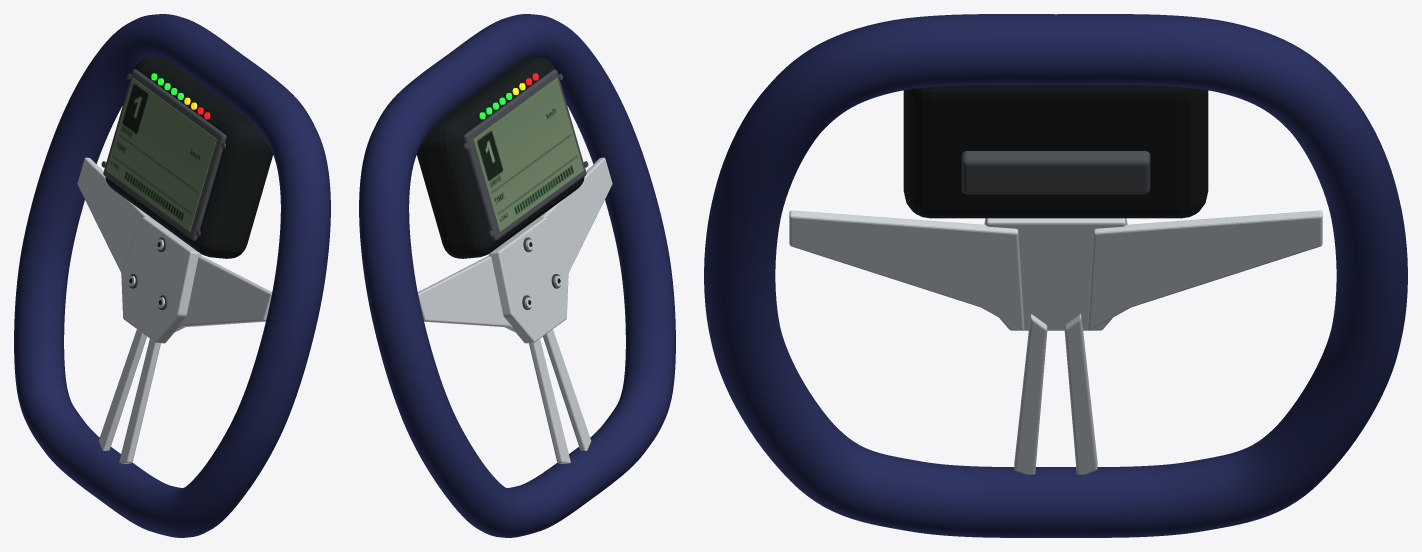
Rendered from SM_CL5_SteeringWheel.fbx.
3 views of the same model, side by side, from view 1: azimuth 30°, elevation 25°; view 2: azimuth 150°, elevation 25°; view 3: azimuth 270°, elevation 25° (orthographic). The views are drawn at different scales.
Visible parts, largest first — view 1: SM_CL5_SteeringWheel; view 2: SM_CL5_SteeringWheel; view 3: SM_CL5_SteeringWheel.
Boxes of the visible parts, x1,y1,x2,y2 form: SM_CL5_SteeringWheel: (14,14,330,537); SM_CL5_SteeringWheel: (359,14,675,537); SM_CL5_SteeringWheel: (704,14,1407,537).
Bounding box in the file's own units: 12.52 × 33.53 × 31.47.
